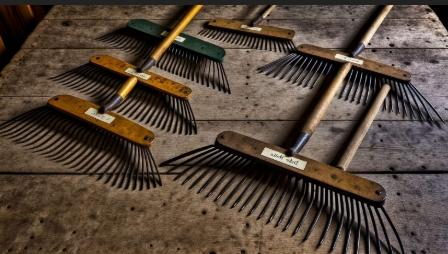RATEAU: (0, 6, 444, 254)
